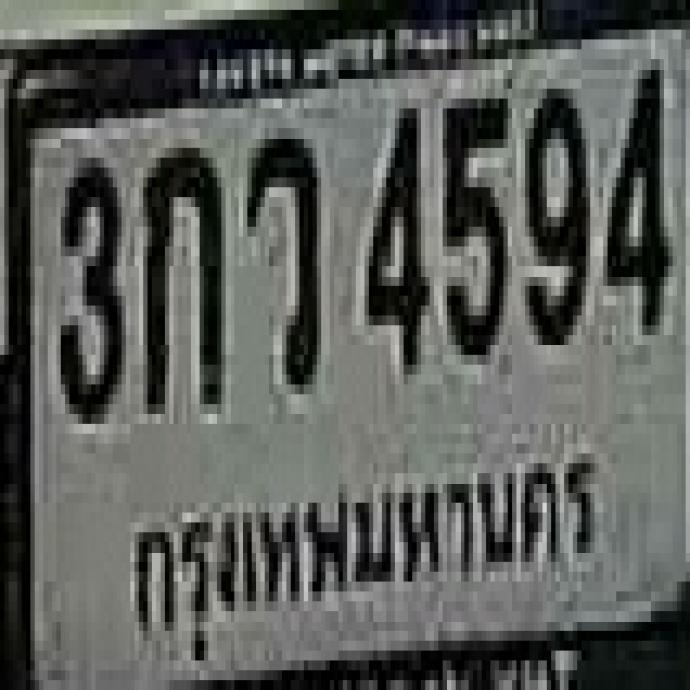3: (56, 149, 118, 412)
4: (602, 58, 665, 325), (362, 98, 424, 364)
5: (440, 90, 503, 352)
9: (521, 80, 584, 335)
A01: (140, 139, 217, 405)
A37: (244, 128, 316, 384)
BKK: (121, 442, 607, 644)
